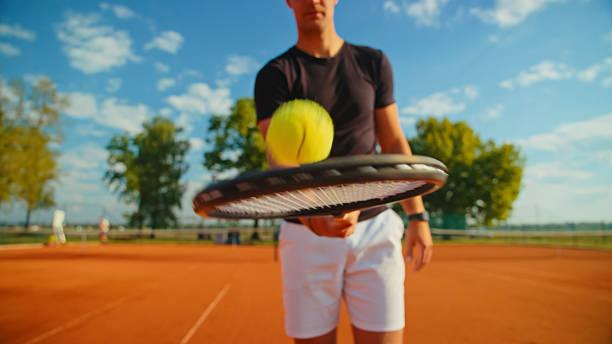ball_tennis: (266, 98, 336, 168)
